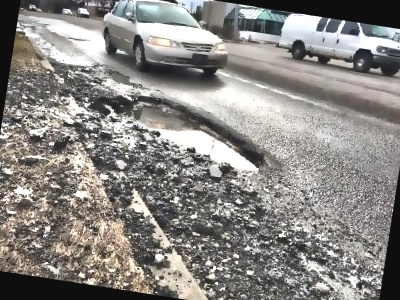pothole: (110, 88, 274, 177), (98, 64, 145, 91)
